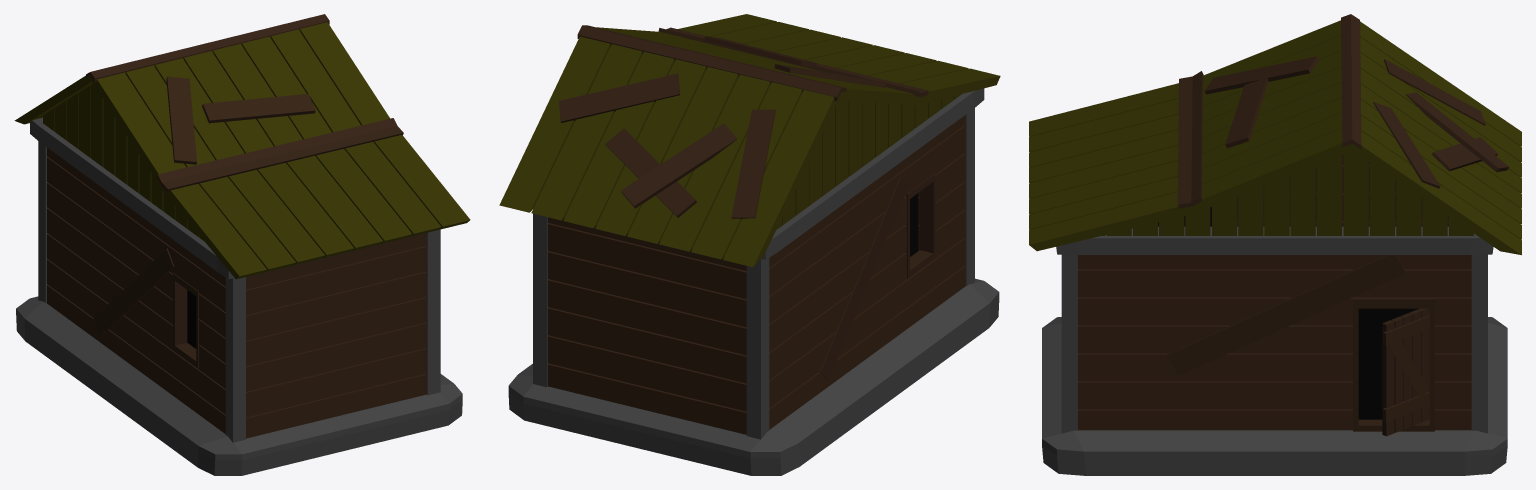
File: дом 3.fbx
3 renders of one model, left to right at view 1: azimuth 30°, elevation 25°; view 2: azimuth 150°, elevation 25°; view 3: azimuth 270°, elevation 25°, orthographic. The views are drawn at different scales.
Visible parts, largest first — view 1: Plane.001, Cube.001, Cube.002, Plane, Cube, Cube.006, Cube.003, Доска.003, Доска.004, Cube.005, Cube.008, Cube.004 (+3 smaller); view 2: Plane.001, Cube.001, Cube.002, Plane, Cube, Cube.003, Доска.004, Cube.005, Cube.012, Cube.009, Cube.010, Cube.016 (+8 smaller); view 3: Plane.001, Cube.002, Plane, Cube.003, Доска.001, Cube.015, Cube, Доска, Cube.014, Cube.006, Cube.021, Cube.013 (+11 smaller).
Boxes of the visible parts, box(x1,y1,x2,y2) form: Plane.001: box(14, 22, 470, 279); Cube.001: box(246, 233, 426, 438); Cube.002: box(47, 147, 225, 433); Plane: box(16, 296, 462, 475); Cube: box(38, 141, 440, 442); Cube.006: box(157, 118, 403, 191); Cube.003: box(30, 117, 234, 278); Доска.003: box(43, 84, 103, 166); Доска.004: box(103, 100, 163, 210); Cube.005: box(86, 14, 329, 82); Cube.008: box(202, 94, 315, 123); Cube.004: box(166, 76, 196, 164); Plane.001: box(499, 14, 1000, 267); Cube.001: box(548, 192, 919, 434); Cube.002: box(769, 115, 965, 429); Plane: box(508, 278, 999, 475); Cube: box(533, 108, 974, 439); Cube.003: box(761, 88, 984, 259); Доска.004: box(835, 99, 901, 186); Cube.005: box(577, 25, 846, 101); Cube.012: box(621, 123, 736, 208); Cube.009: box(558, 73, 680, 122); Cube.010: box(731, 109, 775, 219); Cube.016: box(820, 176, 908, 380); Plane.001: box(1029, 20, 1521, 255); Cube.002: box(1078, 154, 1471, 430); Plane: box(1042, 317, 1507, 475); Cube.003: box(1056, 226, 1493, 254); Доска.001: box(1212, 154, 1341, 235); Cube.015: box(1167, 255, 1405, 375); Cube: box(1061, 254, 1487, 433); Доска: box(1343, 150, 1473, 235); Cube.014: box(1382, 308, 1429, 436); Cube.006: box(1177, 71, 1203, 208); Cube.021: box(1358, 308, 1418, 419); Cube.013: box(1353, 297, 1434, 431).
Size of the model in its own units: 806 by 895 by 1203.
